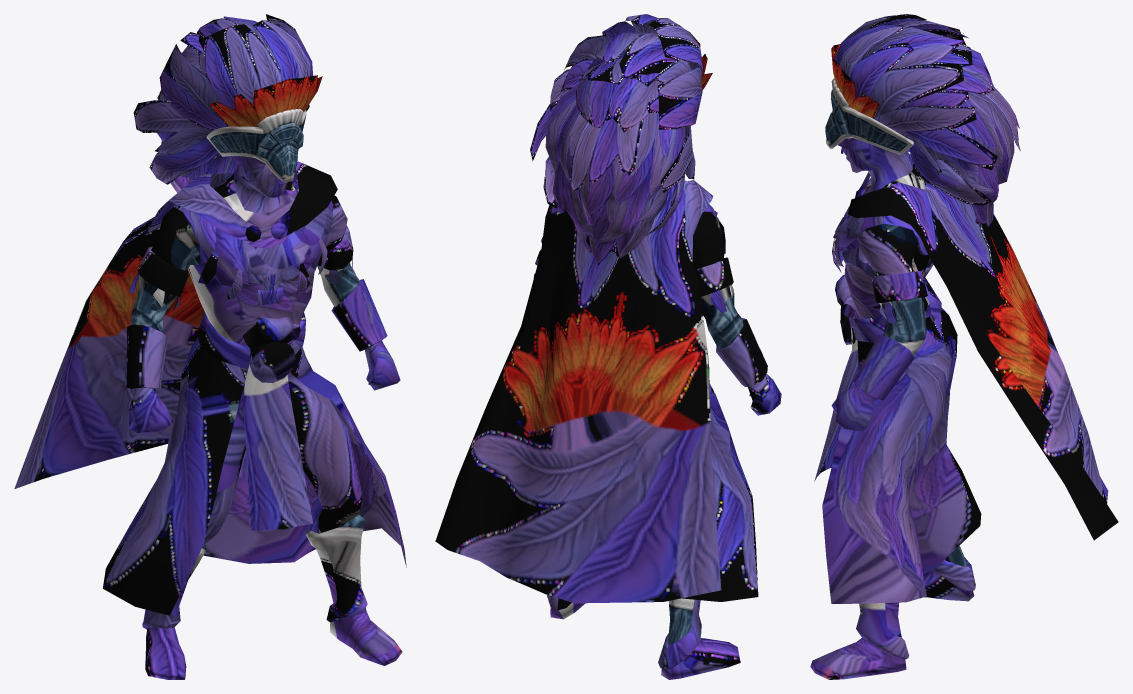
Rendered from 191-teixiptlatezca.glb.
3 renders of one model, left to right at view 1: azimuth 30°, elevation 25°; view 2: azimuth 150°, elevation 25°; view 3: azimuth 270°, elevation 25°, orthographic. The views are drawn at different scales.
Bounding box in the file's own units: 1.1 × 2.27 × 1.05.
Materials: 1 (1 with a texture image).
